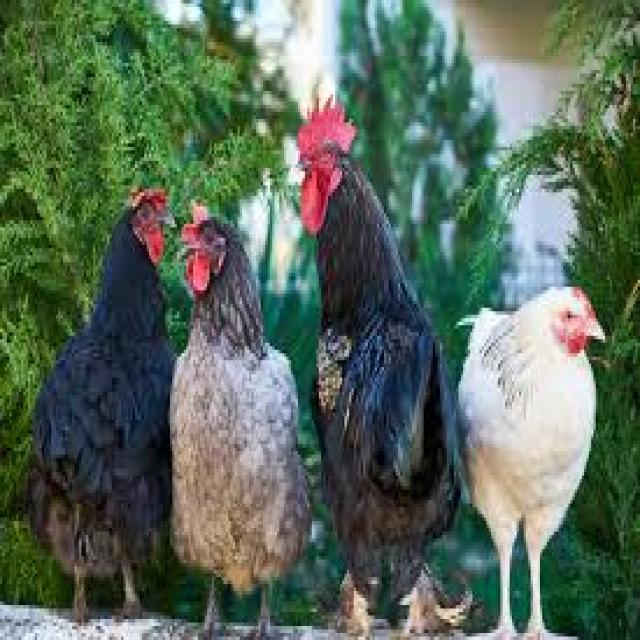Chicken: (36, 177, 179, 598), (171, 206, 316, 604), (457, 282, 609, 620)
